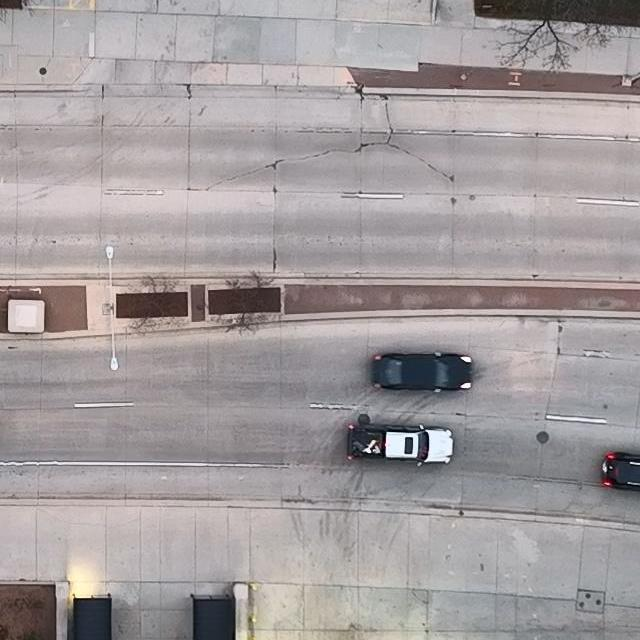car: (346, 424, 453, 467), (370, 352, 472, 394), (602, 451, 640, 490)
